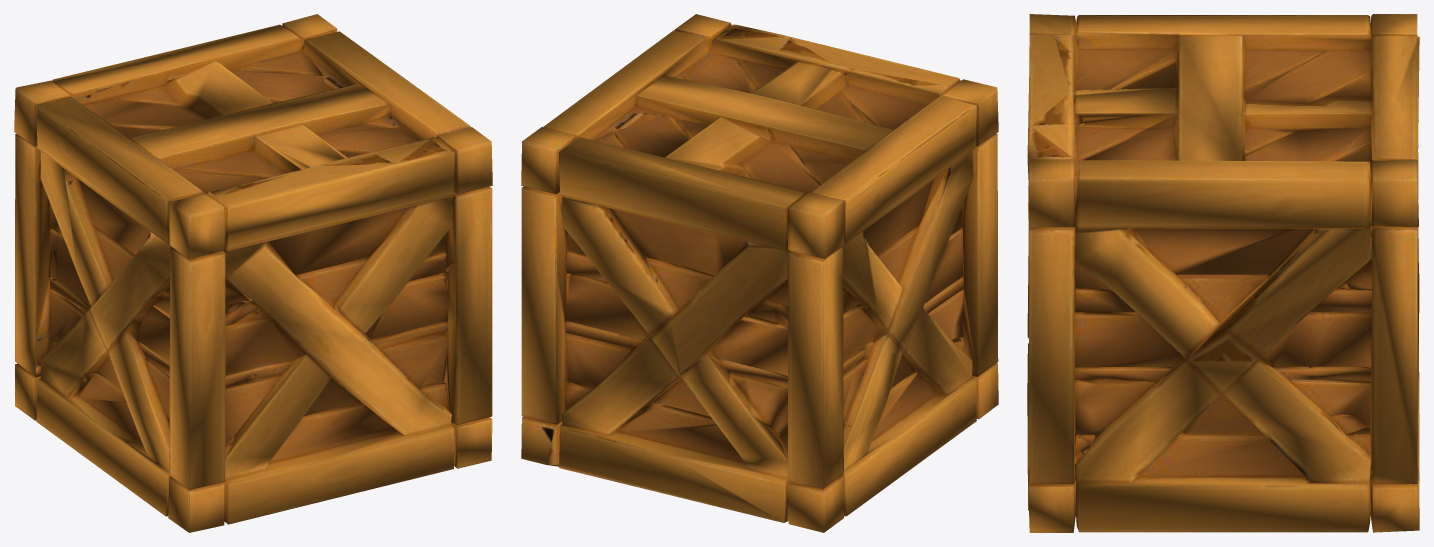
The model's file is Crate_Meshy_low.glb.
3 views of the same model, side by side, from view 1: azimuth 30°, elevation 25°; view 2: azimuth 150°, elevation 25°; view 3: azimuth 270°, elevation 25° (orthographic). The views are drawn at different scales.
Visible parts, largest first — view 1: geometry_0; view 2: geometry_0; view 3: geometry_0.
Part boxes in pixels (<box>): geometry_0: <box>14,14,492,532</box>; geometry_0: <box>521,14,998,532</box>; geometry_0: <box>1027,14,1419,532</box>.
Bounding box in the file's own units: 1.9 × 1.9 × 1.9.
1 material, 1 textured.
